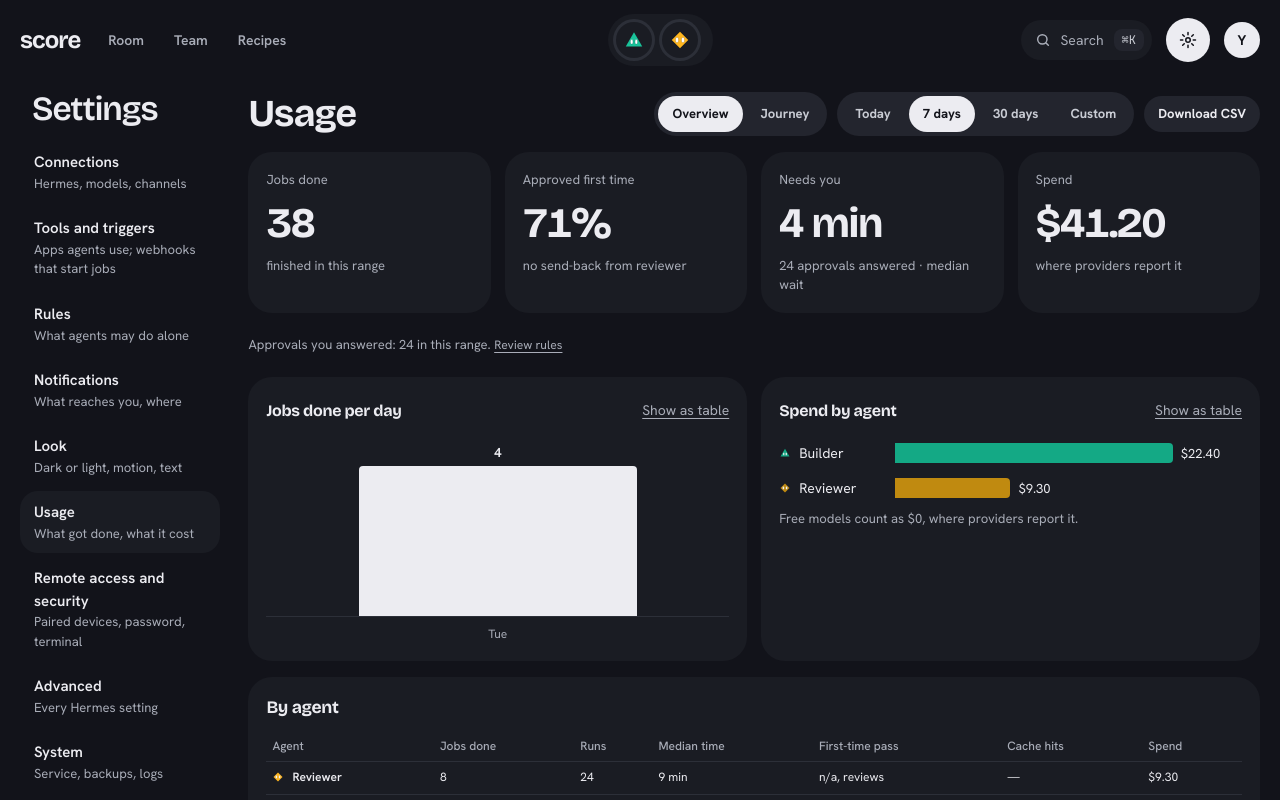
Test case: spend by agent sorts highest first and keeps each agent glyph
Click the button "Show as table" in the row of "Spend by agent" at (1198, 411), box x1=1155 y1=395 x2=1242 y2=427
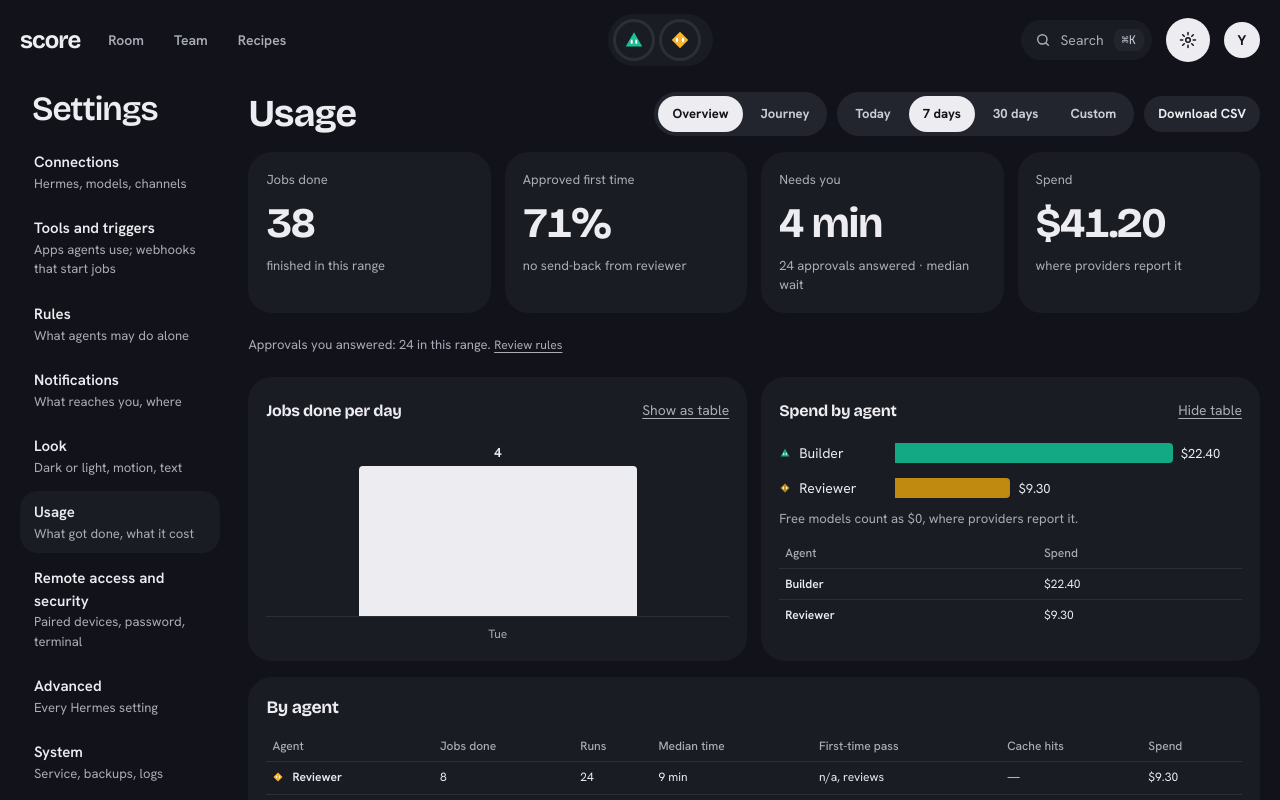
expect the row "Builder $22.40" is shown: met, box x1=779 y1=569 x2=1242 y2=600
expect the row "Reviewer $9.30" is shown: met, box x1=779 y1=600 x2=1242 y2=630
